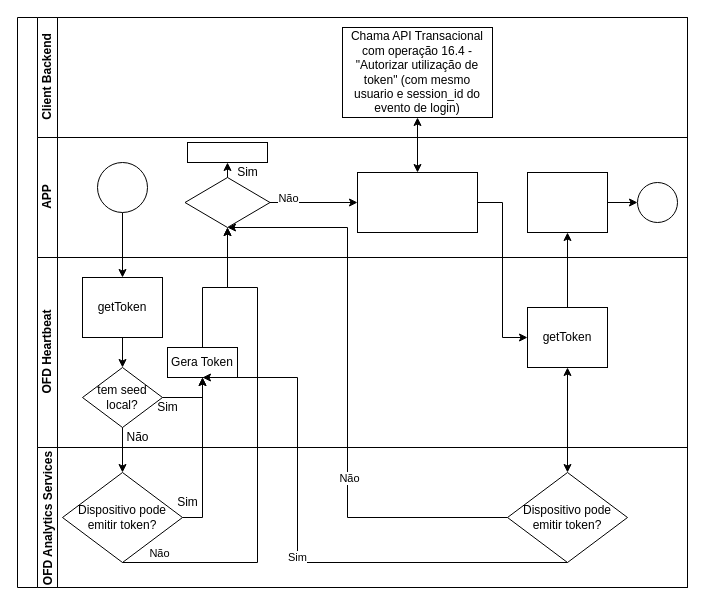
This 705x605 diagram has some shape labels left out. The box of each missing label's shape, as (x1, y1, x2, y2) in pixels:
Dispositivo autorizado a gerar Token: (526, 172, 608, 232)
Exibe o Token: (186, 142, 268, 162)
existe token?: (184, 176, 270, 228)
Faz o desafio para habilitar o Token: (356, 172, 478, 232)
Fim: (636, 182, 678, 222)
Inicio: (96, 162, 148, 212)
